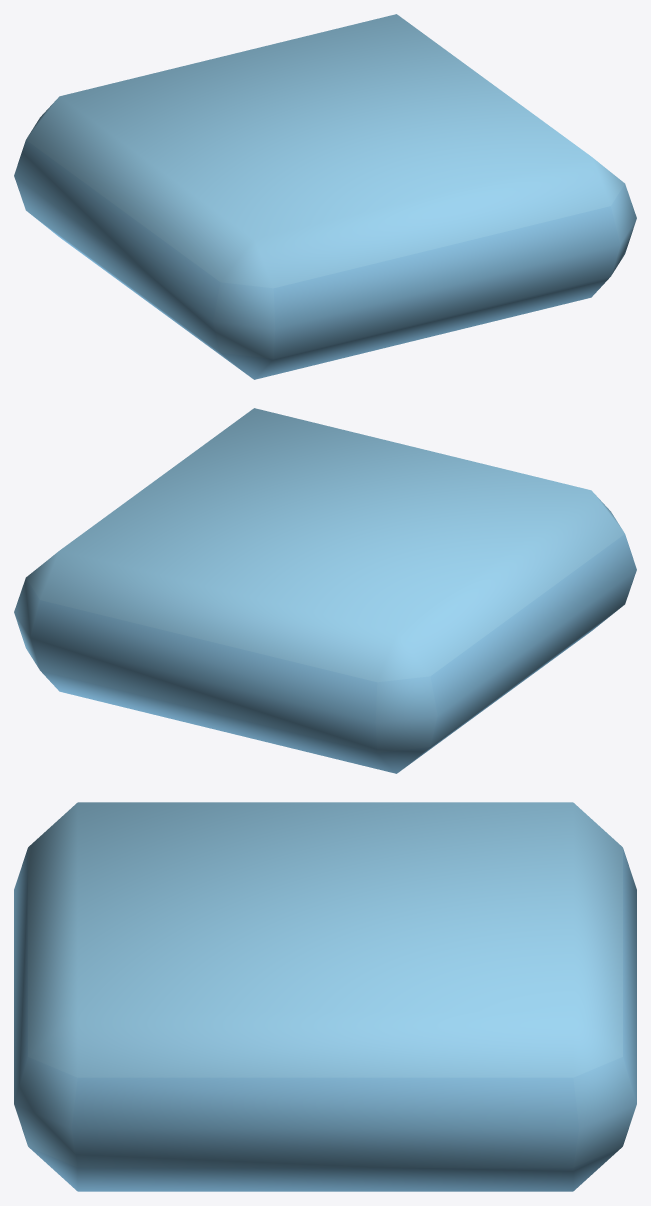
Rendered from towel_blue.fbx.
3 views of the same model, one above another, from view 1: azimuth 30°, elevation 25°; view 2: azimuth 150°, elevation 25°; view 3: azimuth 270°, elevation 25° (orthographic). The views are drawn at different scales.
Visible parts, largest first — view 1: towel_blue; view 2: towel_blue; view 3: towel_blue.
Part boxes in pixels (x1,y1,x2,y2): towel_blue: [14, 14, 636, 379]; towel_blue: [14, 408, 636, 773]; towel_blue: [14, 802, 636, 1191].
Size of the model in its own units: 0.6284 by 0.2 by 0.6284.
